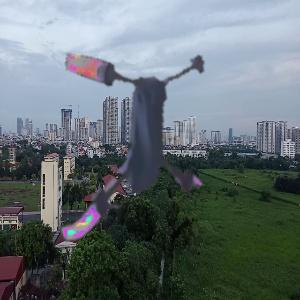drone: (33, 39, 231, 237)
